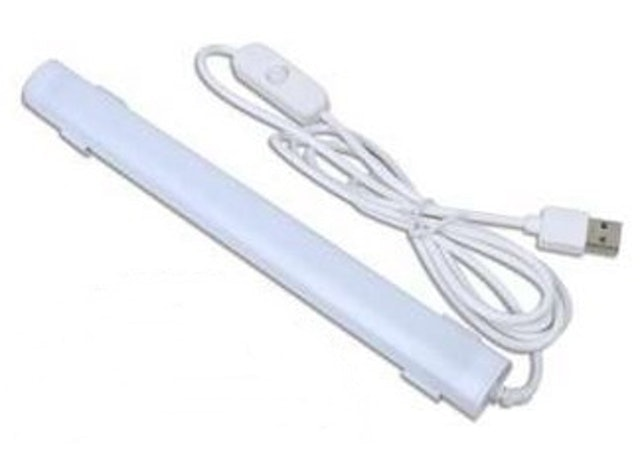Light_bulb: (21, 62, 516, 429)
